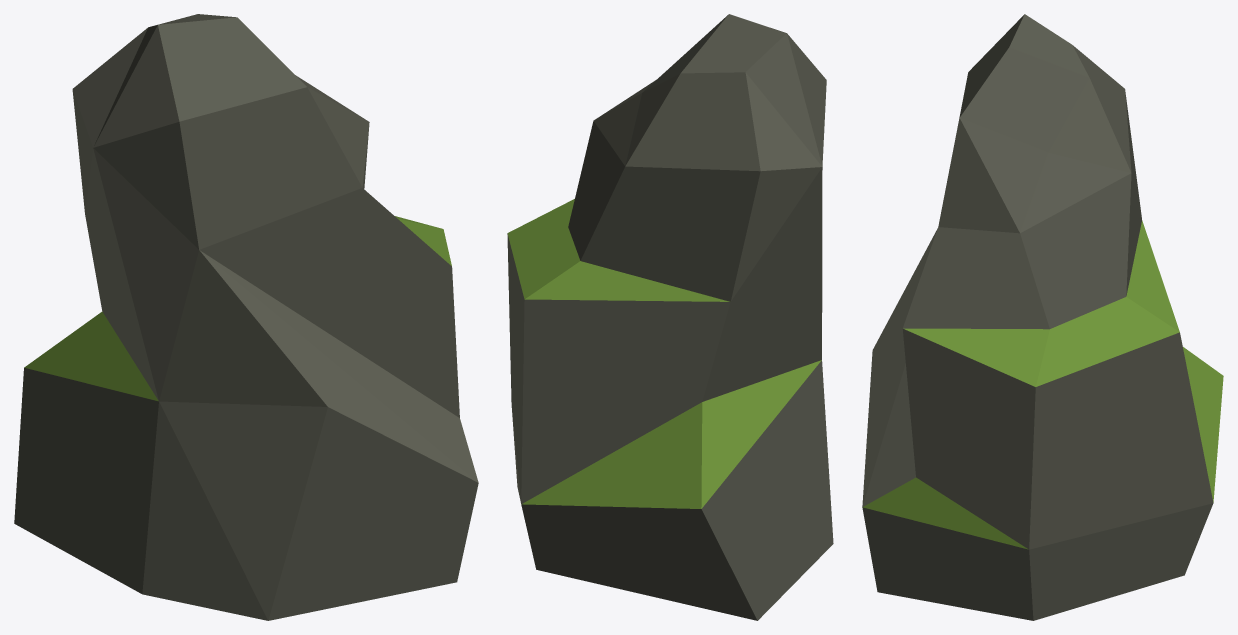
The model's file is green_rock_L_06.fbx.
3 renders of one model, left to right at view 1: azimuth 30°, elevation 25°; view 2: azimuth 150°, elevation 25°; view 3: azimuth 270°, elevation 25°, orthographic. The views are drawn at different scales.
Visible parts, largest first — view 1: Cube.004; view 2: Cube.004; view 3: Cube.004.
Boxes of the visible parts, left/top/right/bottom form: Cube.004: left=14, top=14, right=478, bottom=620; Cube.004: left=507, top=14, right=833, bottom=620; Cube.004: left=862, top=14, right=1223, bottom=620.
Size of the model in its own units: 637 by 960 by 648.
